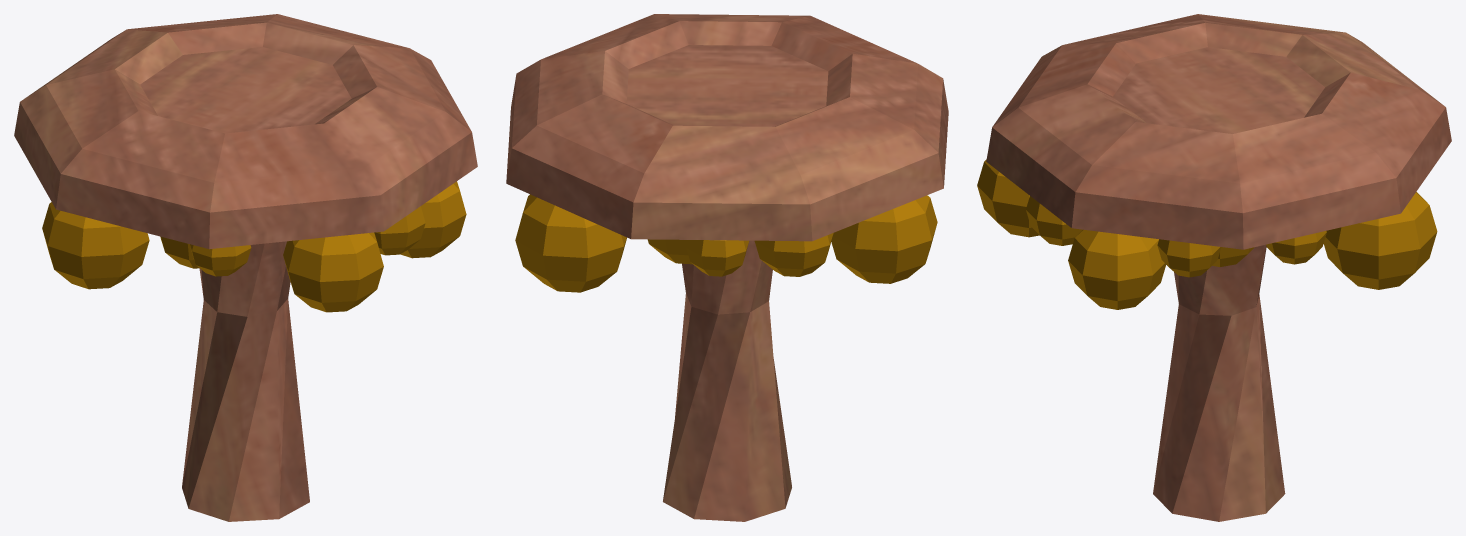
The model's file is copper_pole.glb.
The picture shows the model from 3 angles, left to right: view 1: azimuth 30°, elevation 25°; view 2: azimuth 150°, elevation 25°; view 3: azimuth 270°, elevation 25°; orthographic projection.
Visible parts, largest first — view 1: Cylinder, Sphere, Sphere.001, Sphere.012, Sphere.003, Sphere.011, Sphere.006; view 2: Cylinder, Sphere.002, Sphere.001, Sphere.005, Sphere.010, Sphere.008; view 3: Cylinder, Sphere.002, Sphere.012, Sphere, Sphere.007, Sphere.003, Sphere.009.
Part boxes in pixels (x1,y1,x2,y2): Cylinder: [14, 14, 477, 521]; Sphere: [283, 232, 383, 312]; Sphere.001: [42, 202, 149, 289]; Sphere.012: [400, 181, 466, 258]; Sphere.003: [374, 206, 425, 255]; Sphere.011: [190, 244, 251, 276]; Sphere.006: [160, 236, 199, 268]; Cylinder: [506, 14, 948, 521]; Sphere.002: [515, 194, 626, 292]; Sphere.001: [831, 195, 937, 283]; Sphere.005: [754, 233, 833, 276]; Sphere.010: [686, 240, 749, 276]; Sphere.008: [647, 239, 692, 264]; Cylinder: [986, 14, 1451, 521]; Sphere.002: [1323, 192, 1437, 289]; Sphere.012: [1068, 229, 1166, 309]; Sphere: [977, 159, 1039, 237]; Sphere.007: [1157, 239, 1221, 277]; Sphere.003: [1026, 196, 1082, 245]; Sphere.009: [1266, 231, 1326, 264].
Bounding box in the file's own units: 3.52 × 3.46 × 3.59.
2 materials, 1 textured.
